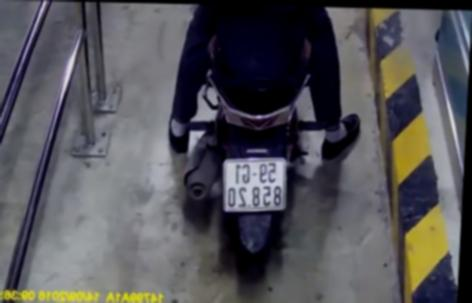License_Plate: (215, 156, 292, 219)
